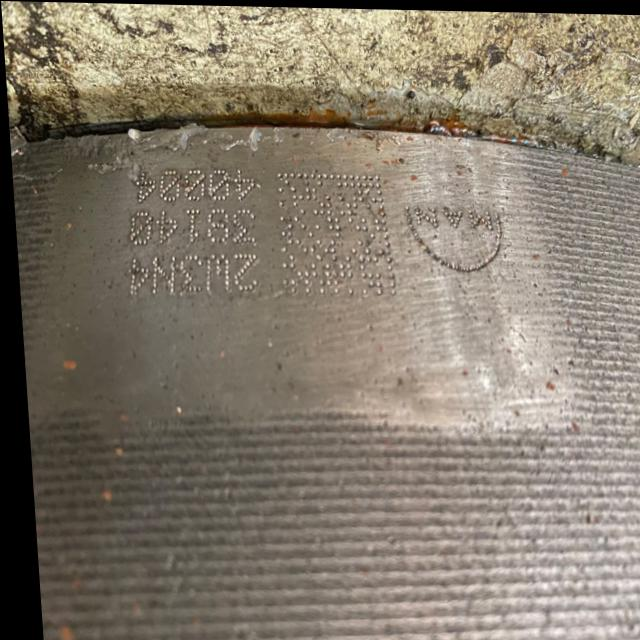dmc: (274, 170, 391, 293)
